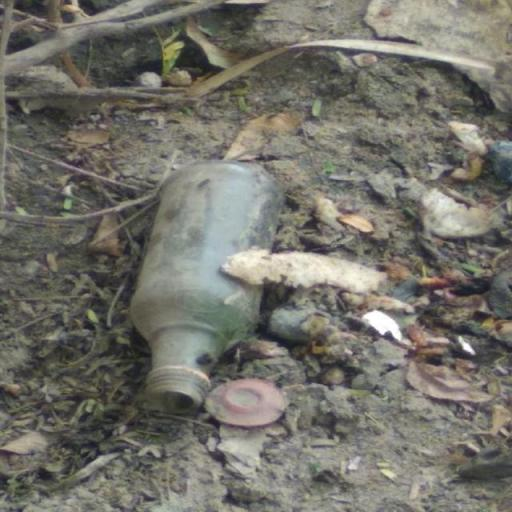glass: (110, 144, 293, 426)
